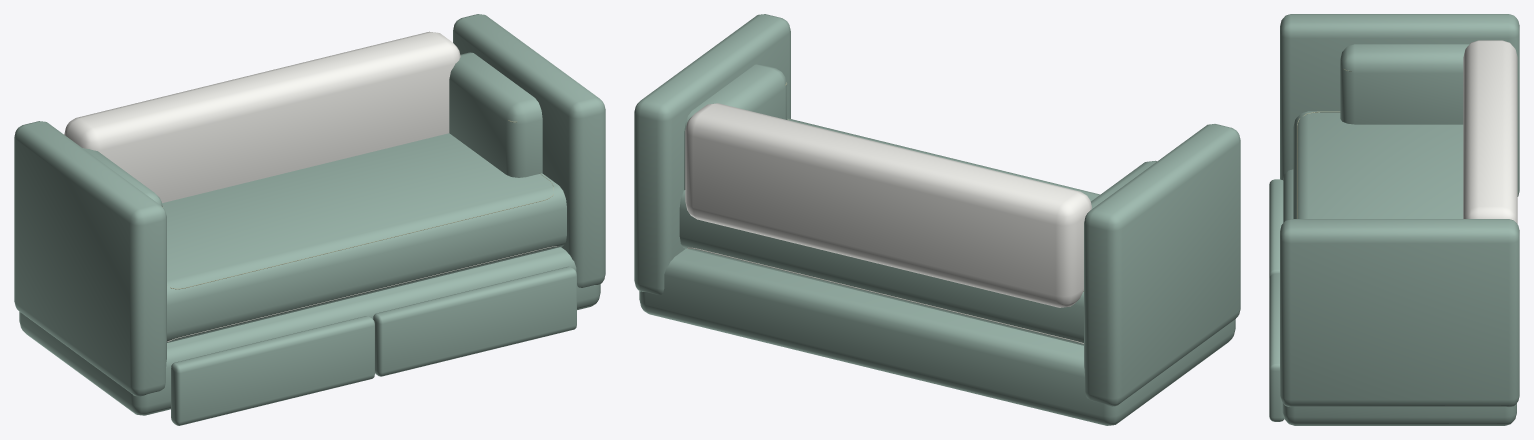
The model's file is daybed.glb.
3 views of the same model, side by side, from view 1: azimuth 30°, elevation 25°; view 2: azimuth 150°, elevation 25°; view 3: azimuth 270°, elevation 25° (orthographic). The views are drawn at different scales.
Parts seen in each view (by area): view 1: catalog_surface_RealismUV; view 2: catalog_surface_RealismUV; view 3: catalog_surface_RealismUV.
Part boxes in pixels (x1,y1,x2,y2): catalog_surface_RealismUV: (14,14,605,425); catalog_surface_RealismUV: (634,14,1240,425); catalog_surface_RealismUV: (1269,14,1519,425).
Size of the model in its own units: 2.05 by 0.9 by 0.98.
